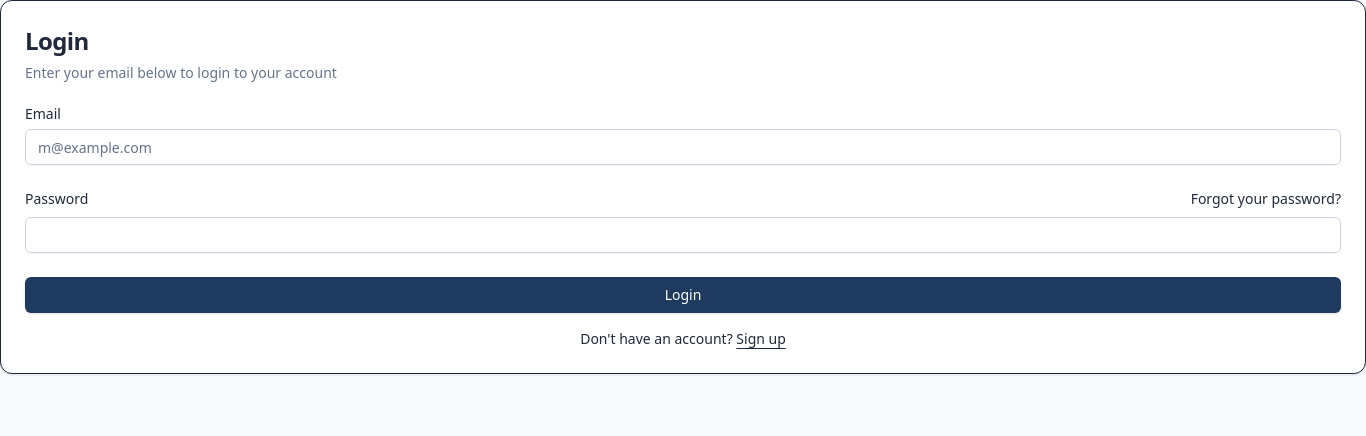
Test: LoginForm component › error handling › should clear error on new submission
# First submission - will fail
Type "test@example.com" into the field labelled "Email" at (683, 147), box [25,129,1341,165]
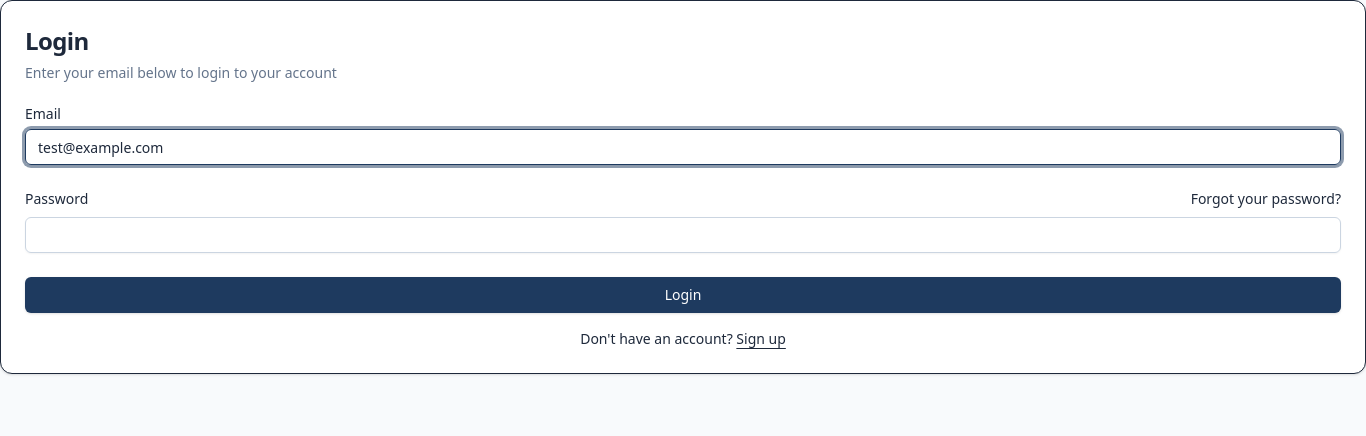
Type "wrong" into the password field labelled "Password" at (683, 235), box [25,217,1341,253]
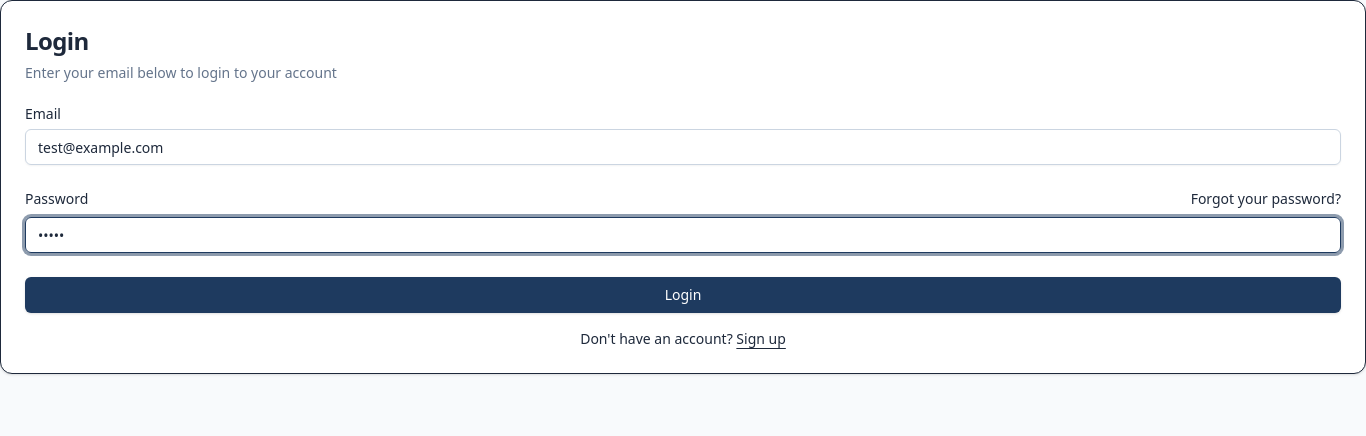
Click the button "Login" at (683, 295), box [25,277,1341,313]
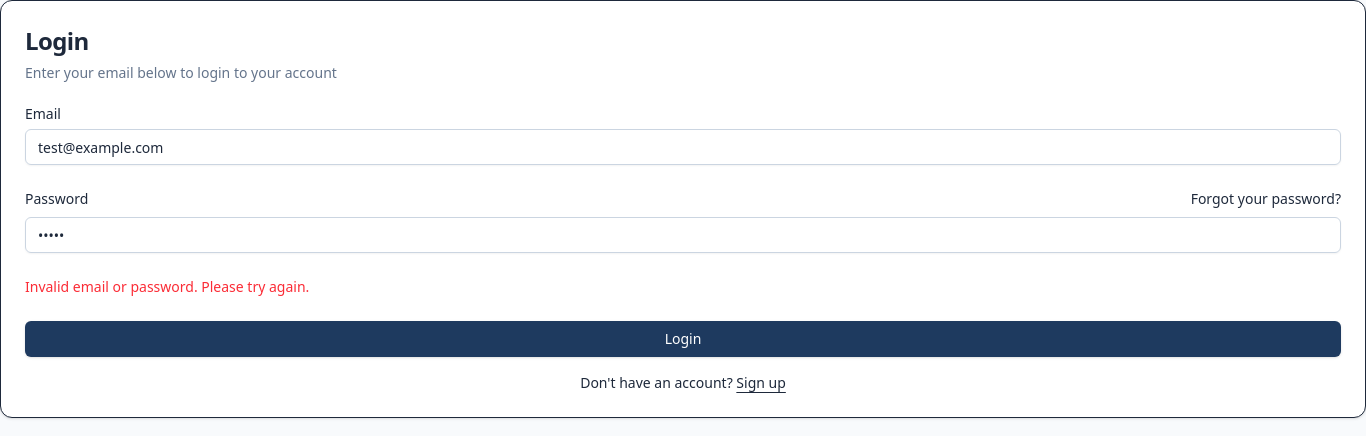
Result: the text "Invalid email or password. Please try again." is shown at [25,277,309,296]
# Second submission - will succeed
Type "correct" into the password field labelled "Password" at (683, 235), box [25,217,1341,253]
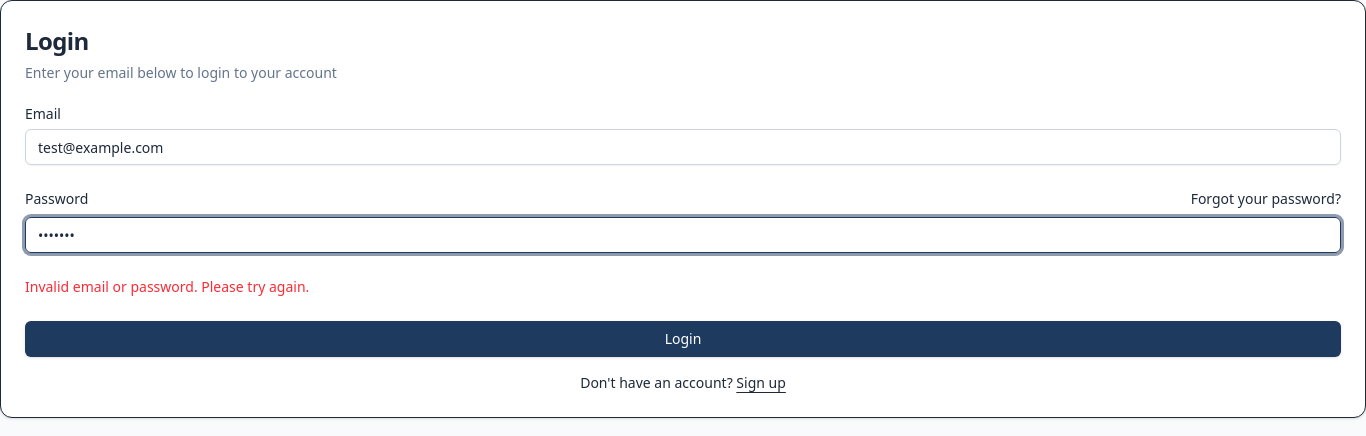
Click the button "Login" at (683, 339), box [25,321,1341,357]
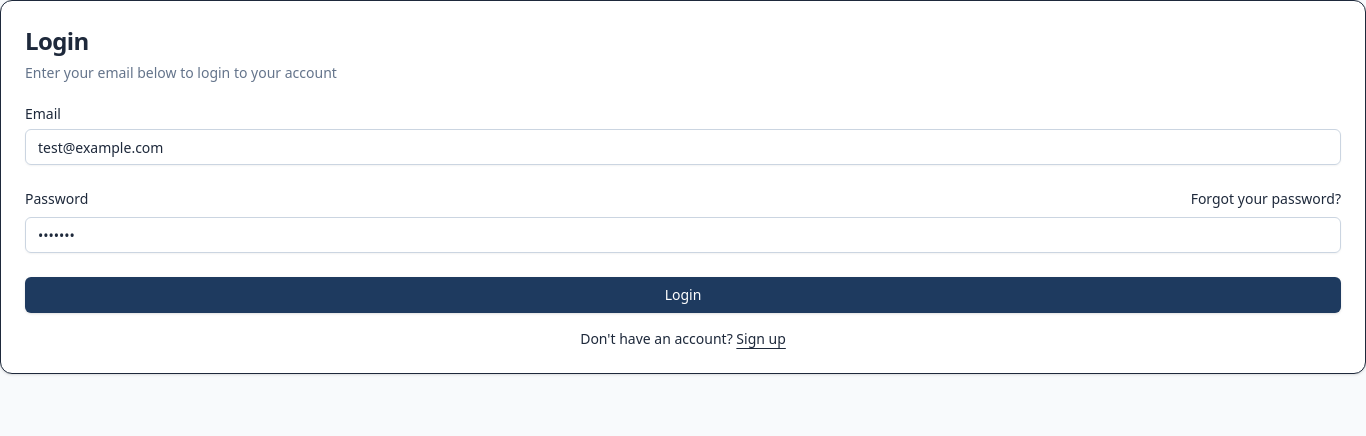
Result: the text "Invalid email or password. Please try again." is gone
